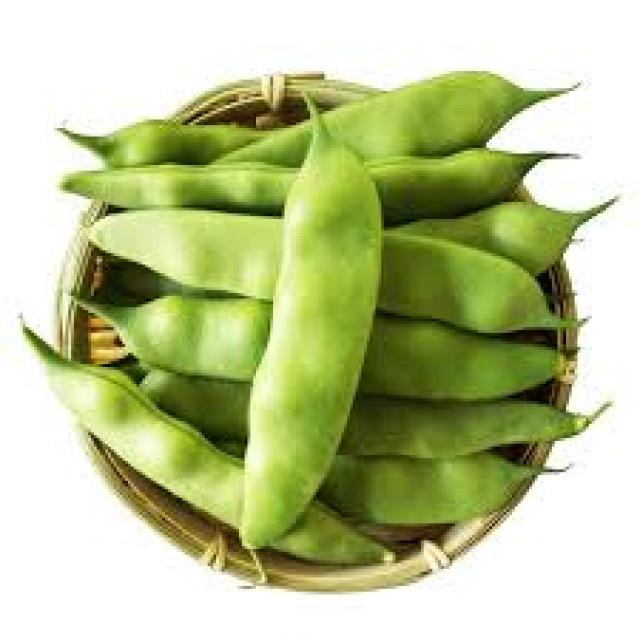food_waste: (23, 71, 609, 560)
